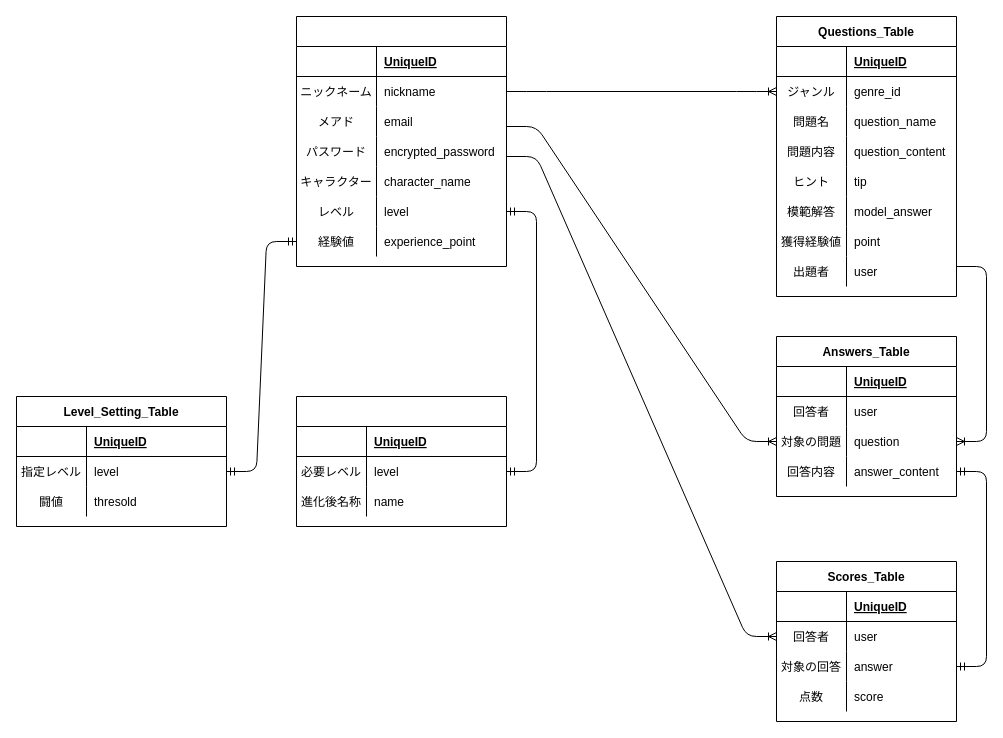
The diagram is 1003 pixels wide and 738 high, and some of its shapes have lost their labels. The box of each missing label's shape, as (x1, y1, x2, y2) in pixels:
Evolution_Setting_Table: (296, 396, 506, 526)
Users_Table: (296, 16, 506, 266)
